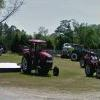Tractor: (19, 34, 63, 75)
